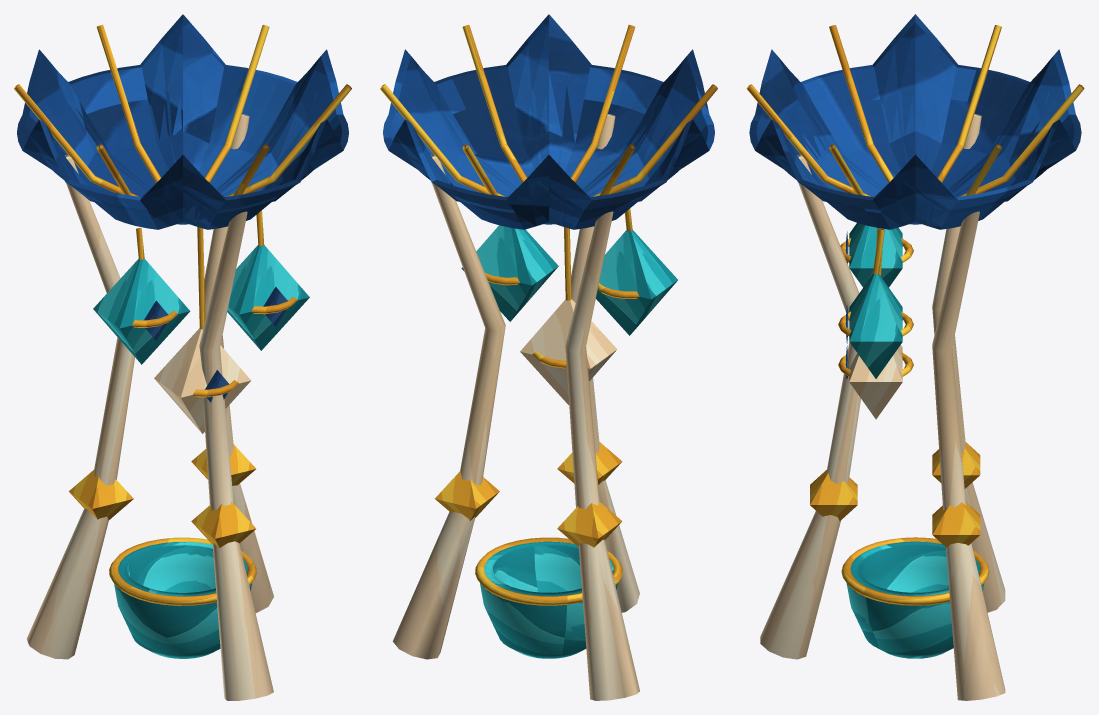
The model's file is 01_原神参考_赛璐璐.glb.
The picture shows the model from 3 angles, left to right: view 1: azimuth 30°, elevation 25°; view 2: azimuth 150°, elevation 25°; view 3: azimuth 270°, elevation 25°; orthographic projection.
Visible parts, largest first — view 1: rain_tower; view 2: rain_tower; view 3: rain_tower.
Boxes of the visible parts, box(x1,y1,x2,y2) form: rain_tower: box(14, 14, 351, 700); rain_tower: box(380, 14, 717, 700); rain_tower: box(746, 14, 1084, 700).
Bounding box in the file's own units: 1.18 × 2.23 × 1.2.
2 materials, 2 textured.
